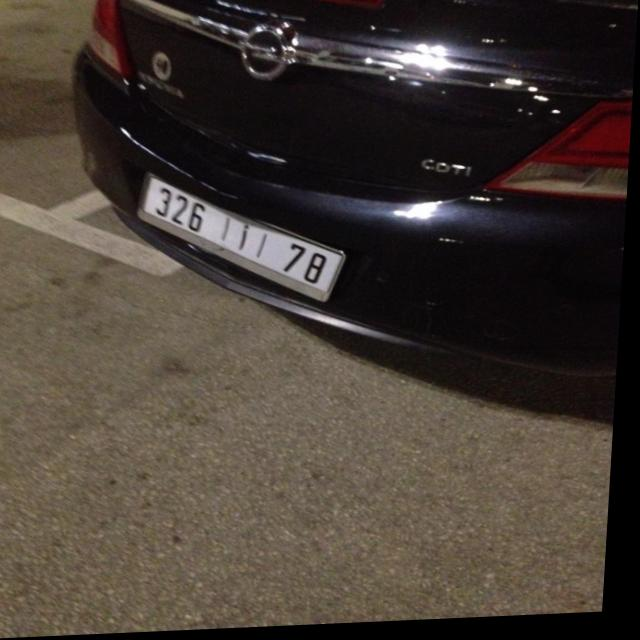License-Plate: (141, 176, 349, 304)
